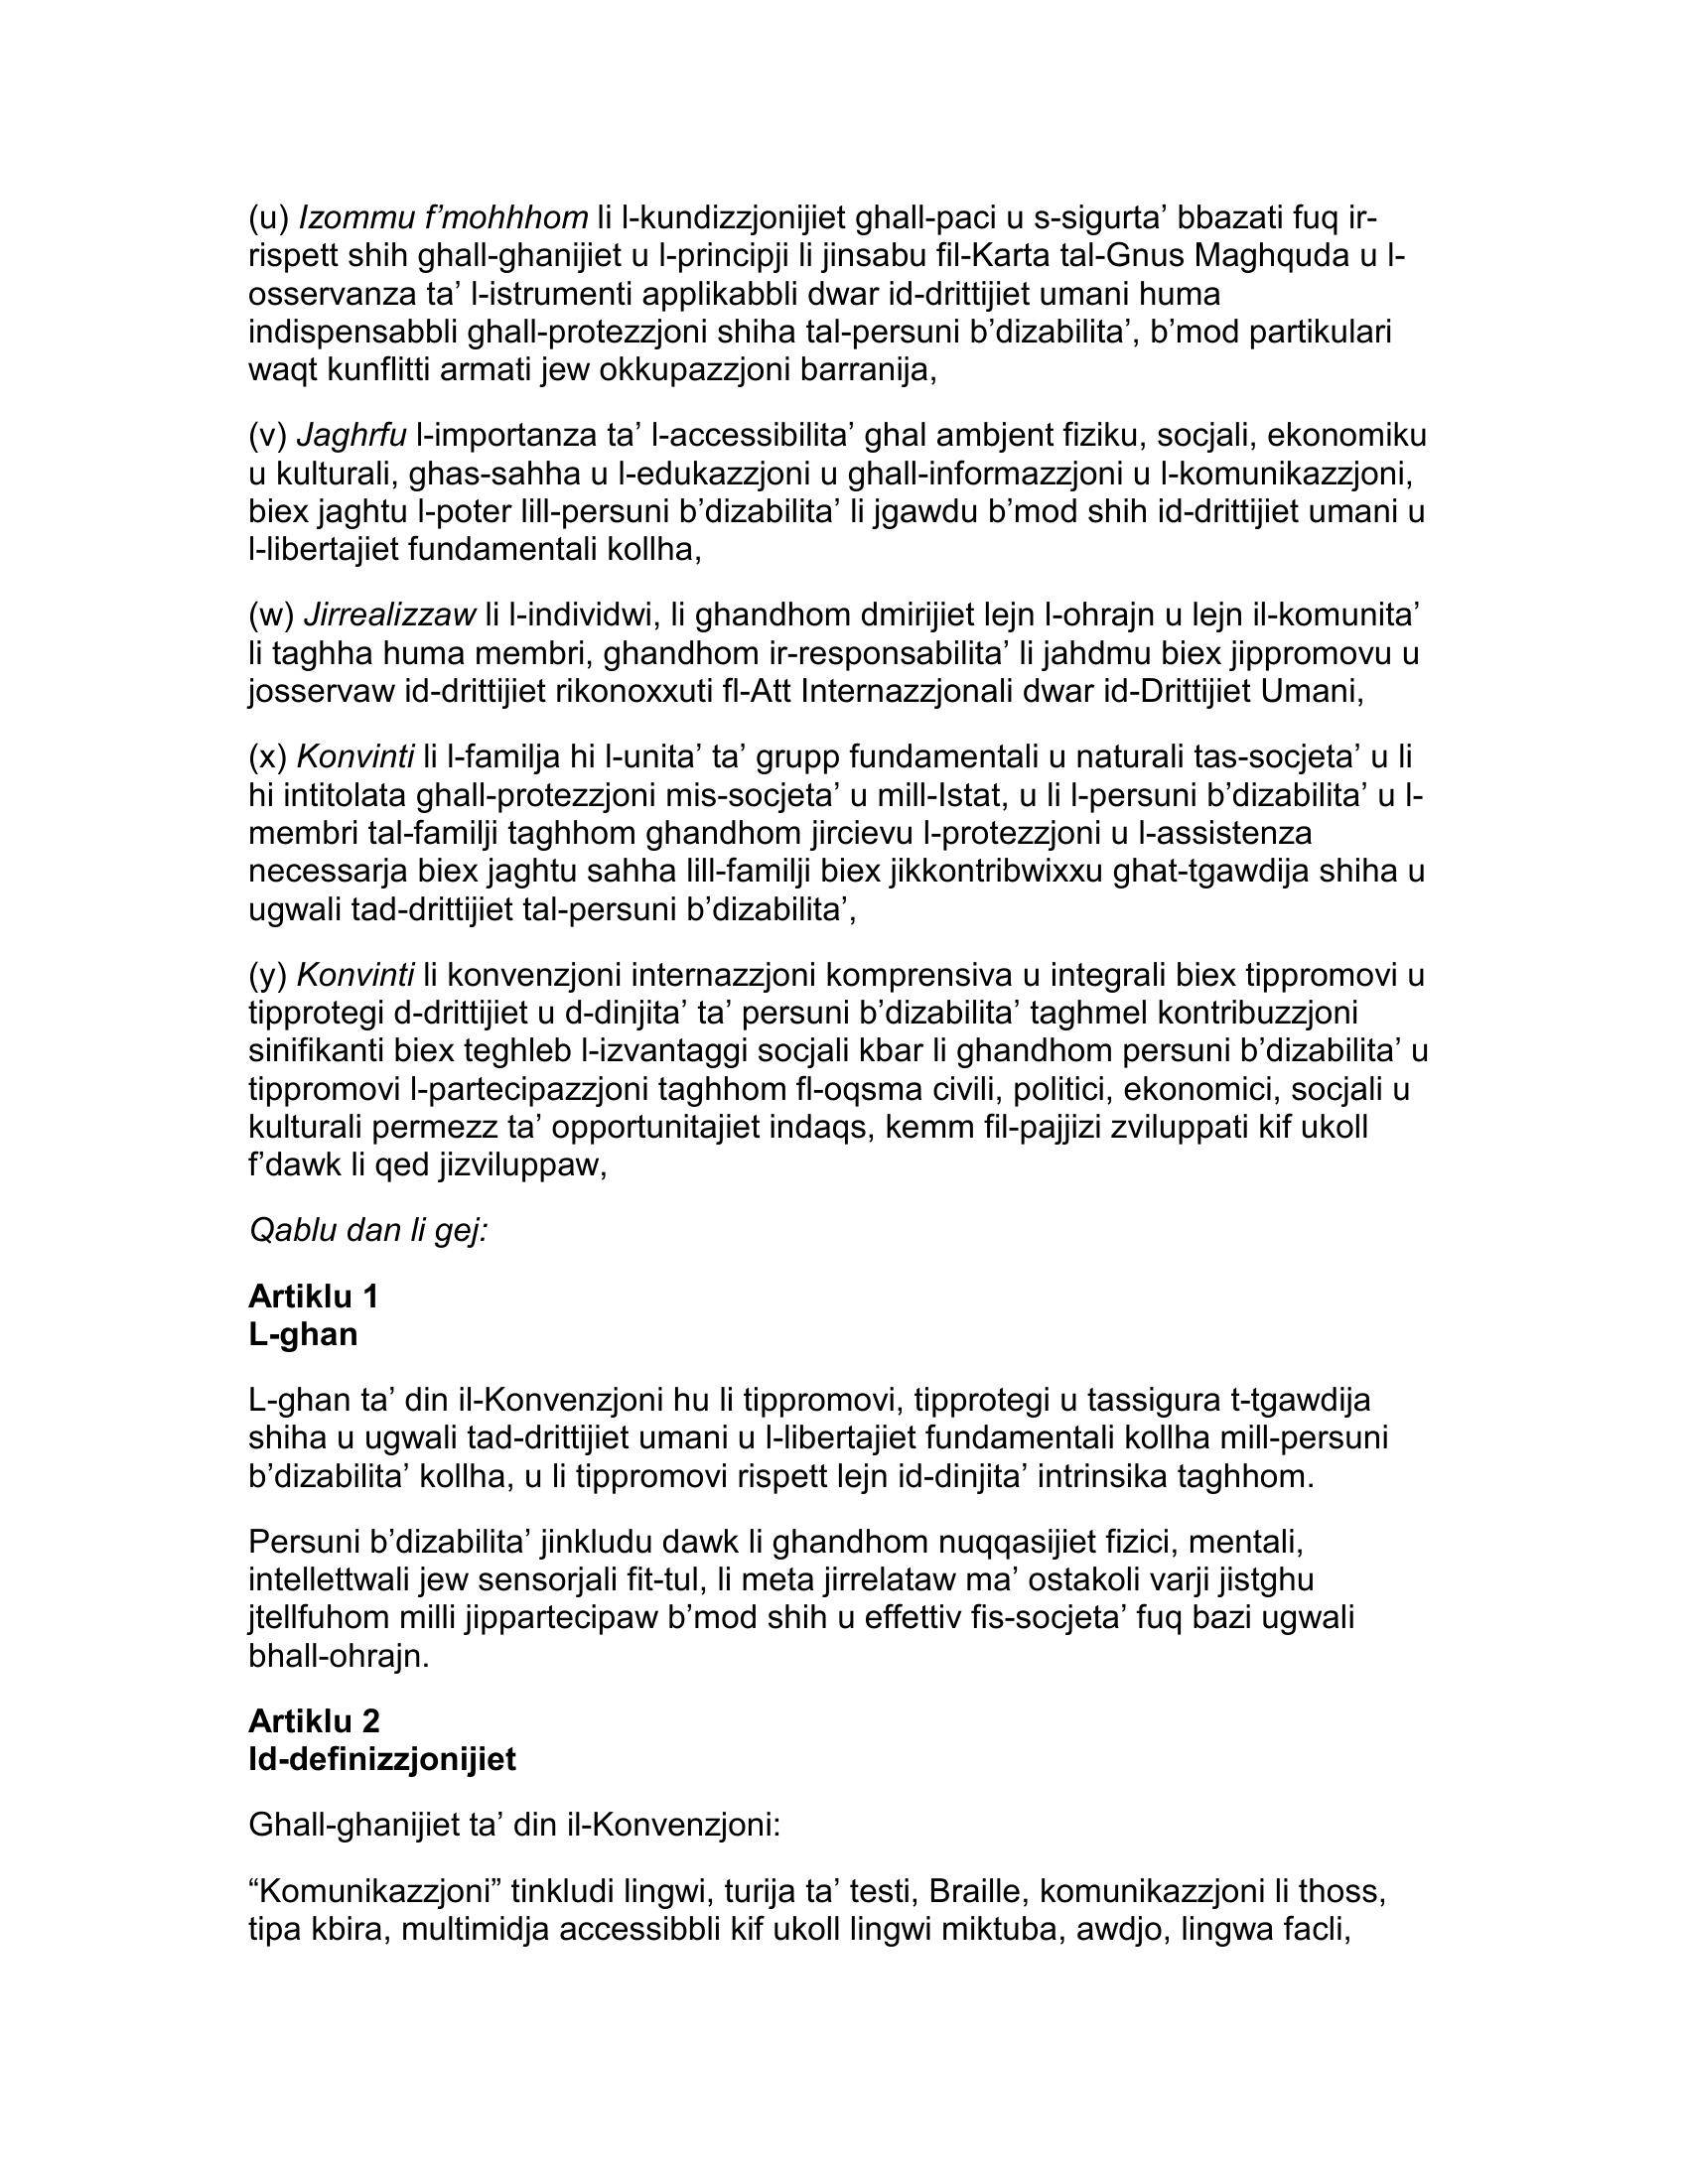text: (213, 145, 1452, 1982)
